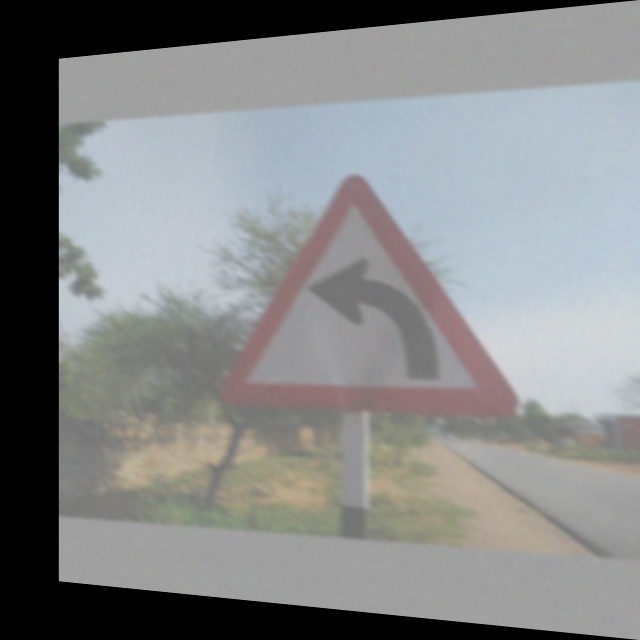Left_Hand_Curve: (237, 168, 517, 419)
